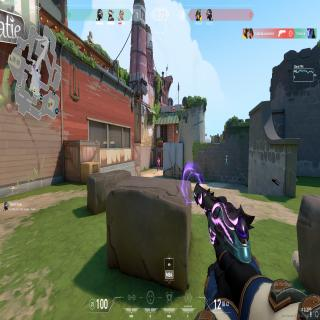ENEMY-BODY: (158, 157, 161, 170)
ENEMY-HEAD: (158, 157, 159, 160)
